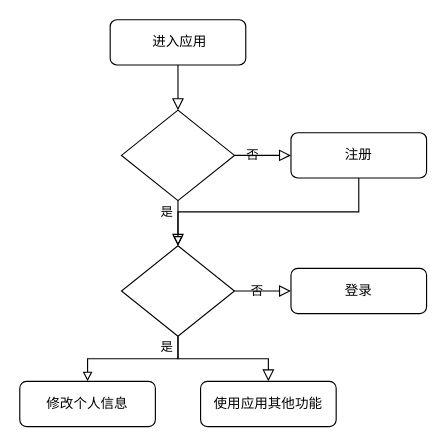
Image size: 446x446. Some labels were removed from this diagram. The shapes that lost their labels are listed below. From the top down, each one's centre as x and y in pixels, then its label:
the point at 177,155: 已注册
the point at 177,290: 已登录
